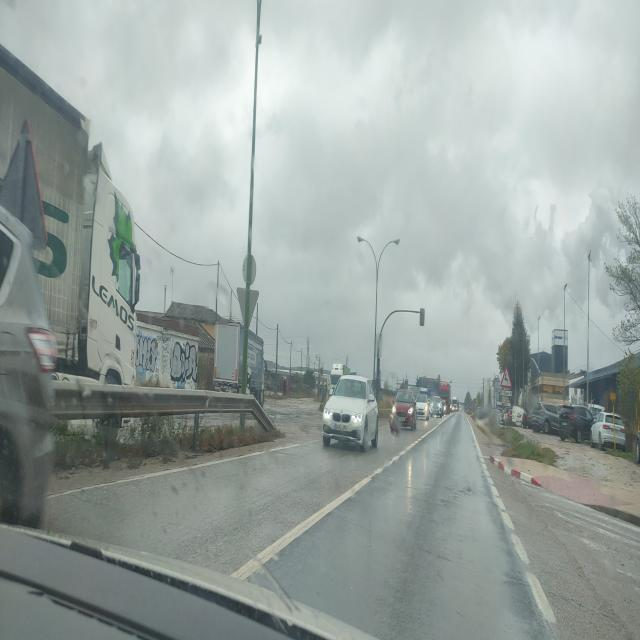Poth-hole: (440, 479, 476, 519)
